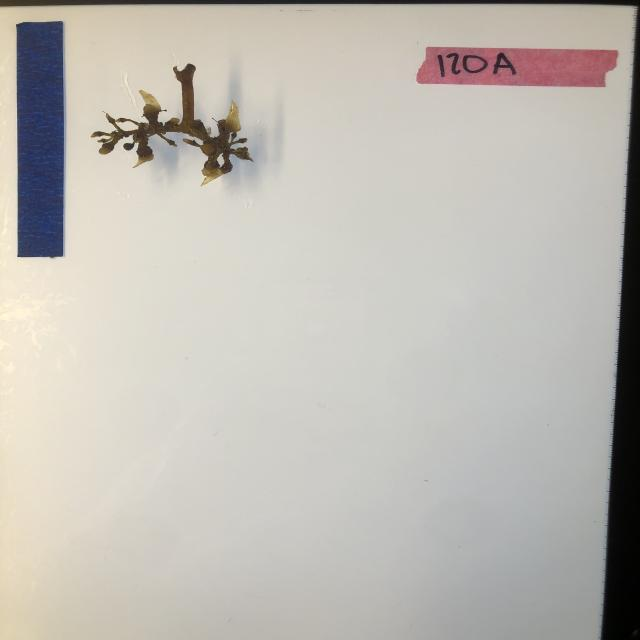index: (417, 44, 618, 88)
measure_label: (15, 20, 65, 258)
rachis_cluster: (91, 60, 255, 187)
